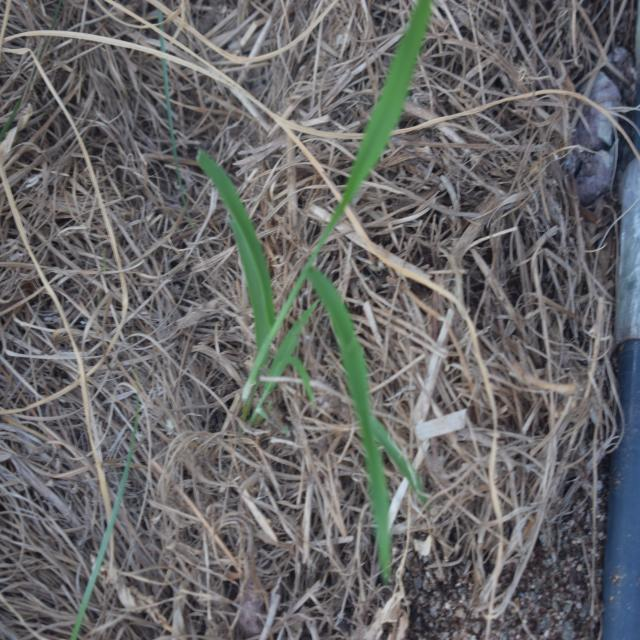crabgrass: (207, 7, 453, 561)
